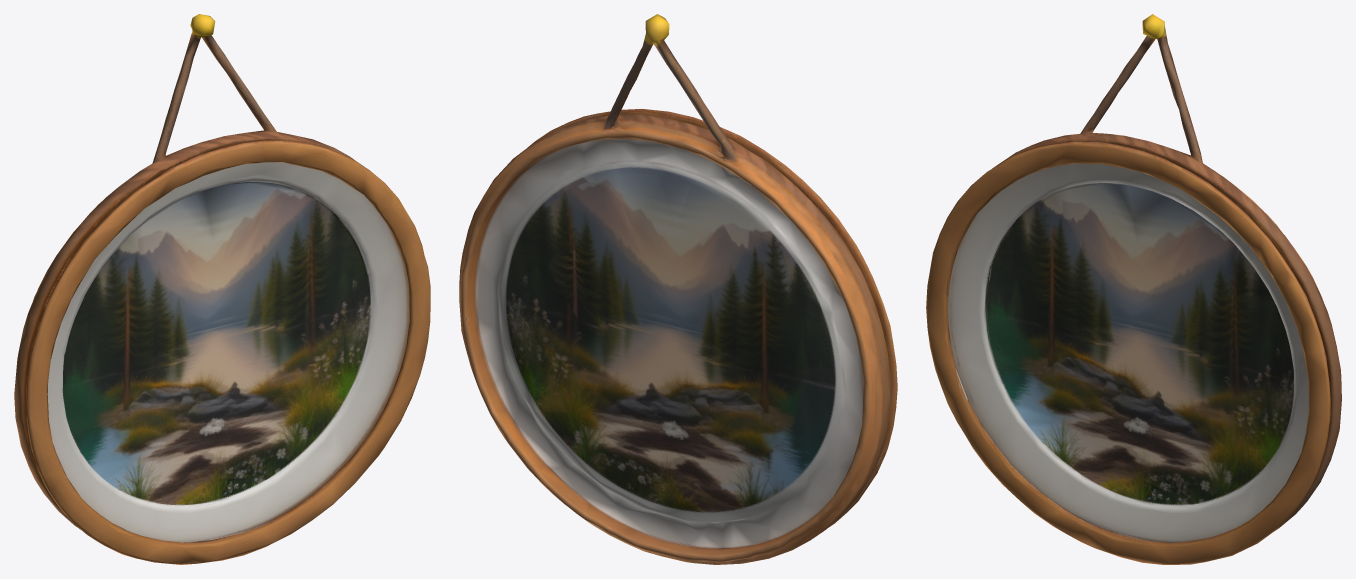
Rendered from Meshy_AI_çerçeve_0114214726_texture.fbx.
The picture shows the model from 3 angles, left to right: view 1: azimuth 30°, elevation 25°; view 2: azimuth 150°, elevation 25°; view 3: azimuth 330°, elevation 25°; orthographic projection. The views are drawn at different scales.
Parts seen in each view (by area): view 1: Mesh_0; view 2: Mesh_0; view 3: Mesh_0.
Boxes of the visible parts, bbox=[...] form: Mesh_0: bbox=[14, 14, 430, 564]; Mesh_0: bbox=[459, 14, 897, 564]; Mesh_0: bbox=[926, 14, 1341, 564].
Bounding box in the file's own units: 154 × 191 × 22.26.
1 material, 1 textured.
